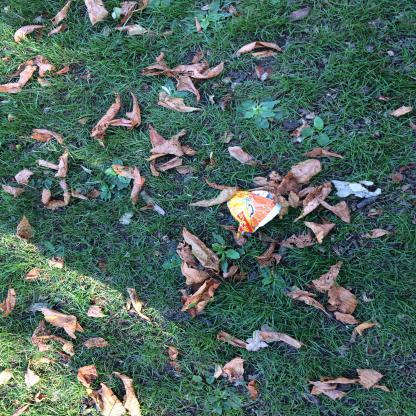plastik: (226, 192, 283, 240)
